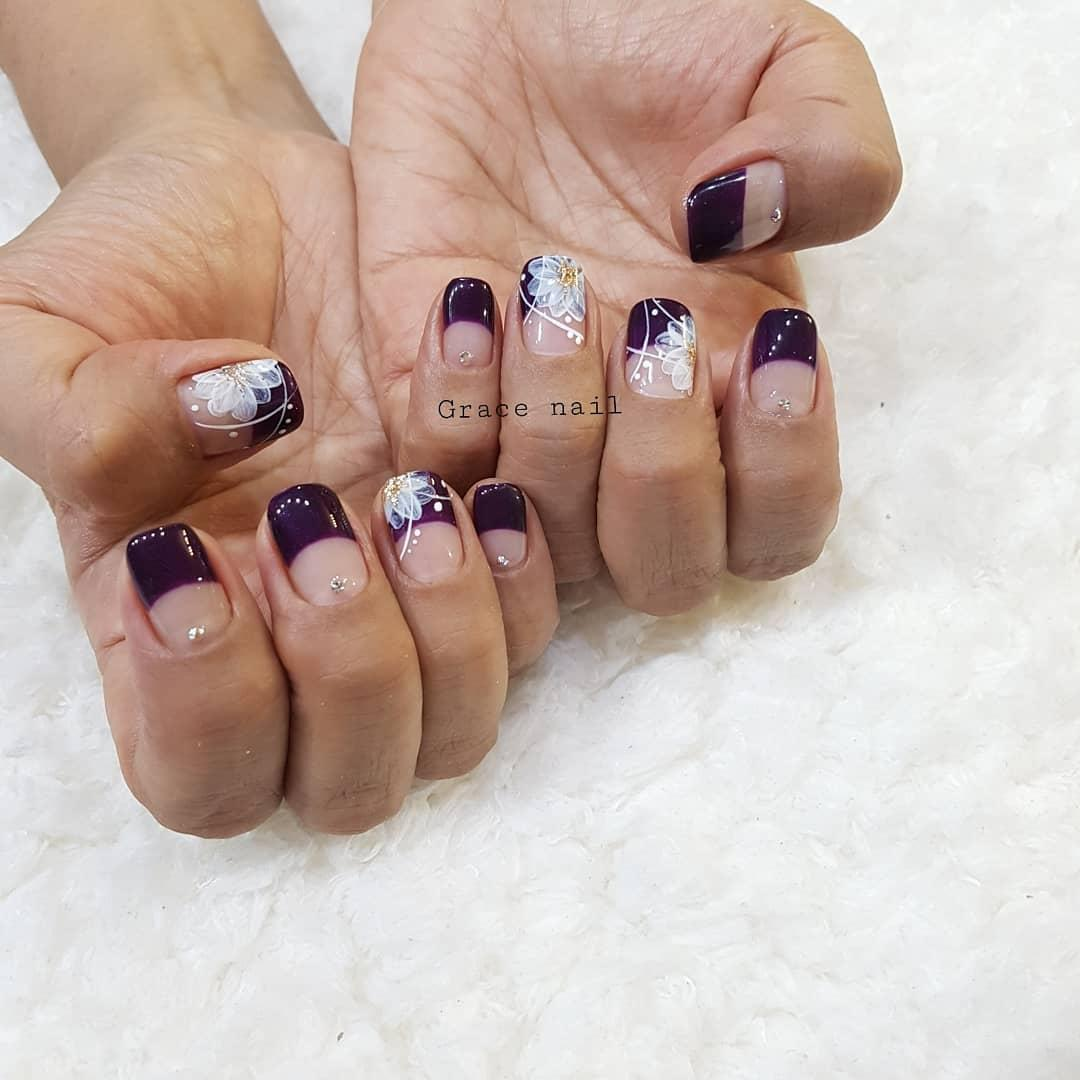nail: (124, 521, 232, 652), (174, 356, 304, 460), (265, 481, 369, 607), (682, 156, 788, 263), (381, 468, 465, 584), (747, 306, 818, 418), (622, 295, 696, 399), (517, 252, 587, 356), (466, 477, 529, 573), (439, 275, 496, 370)
